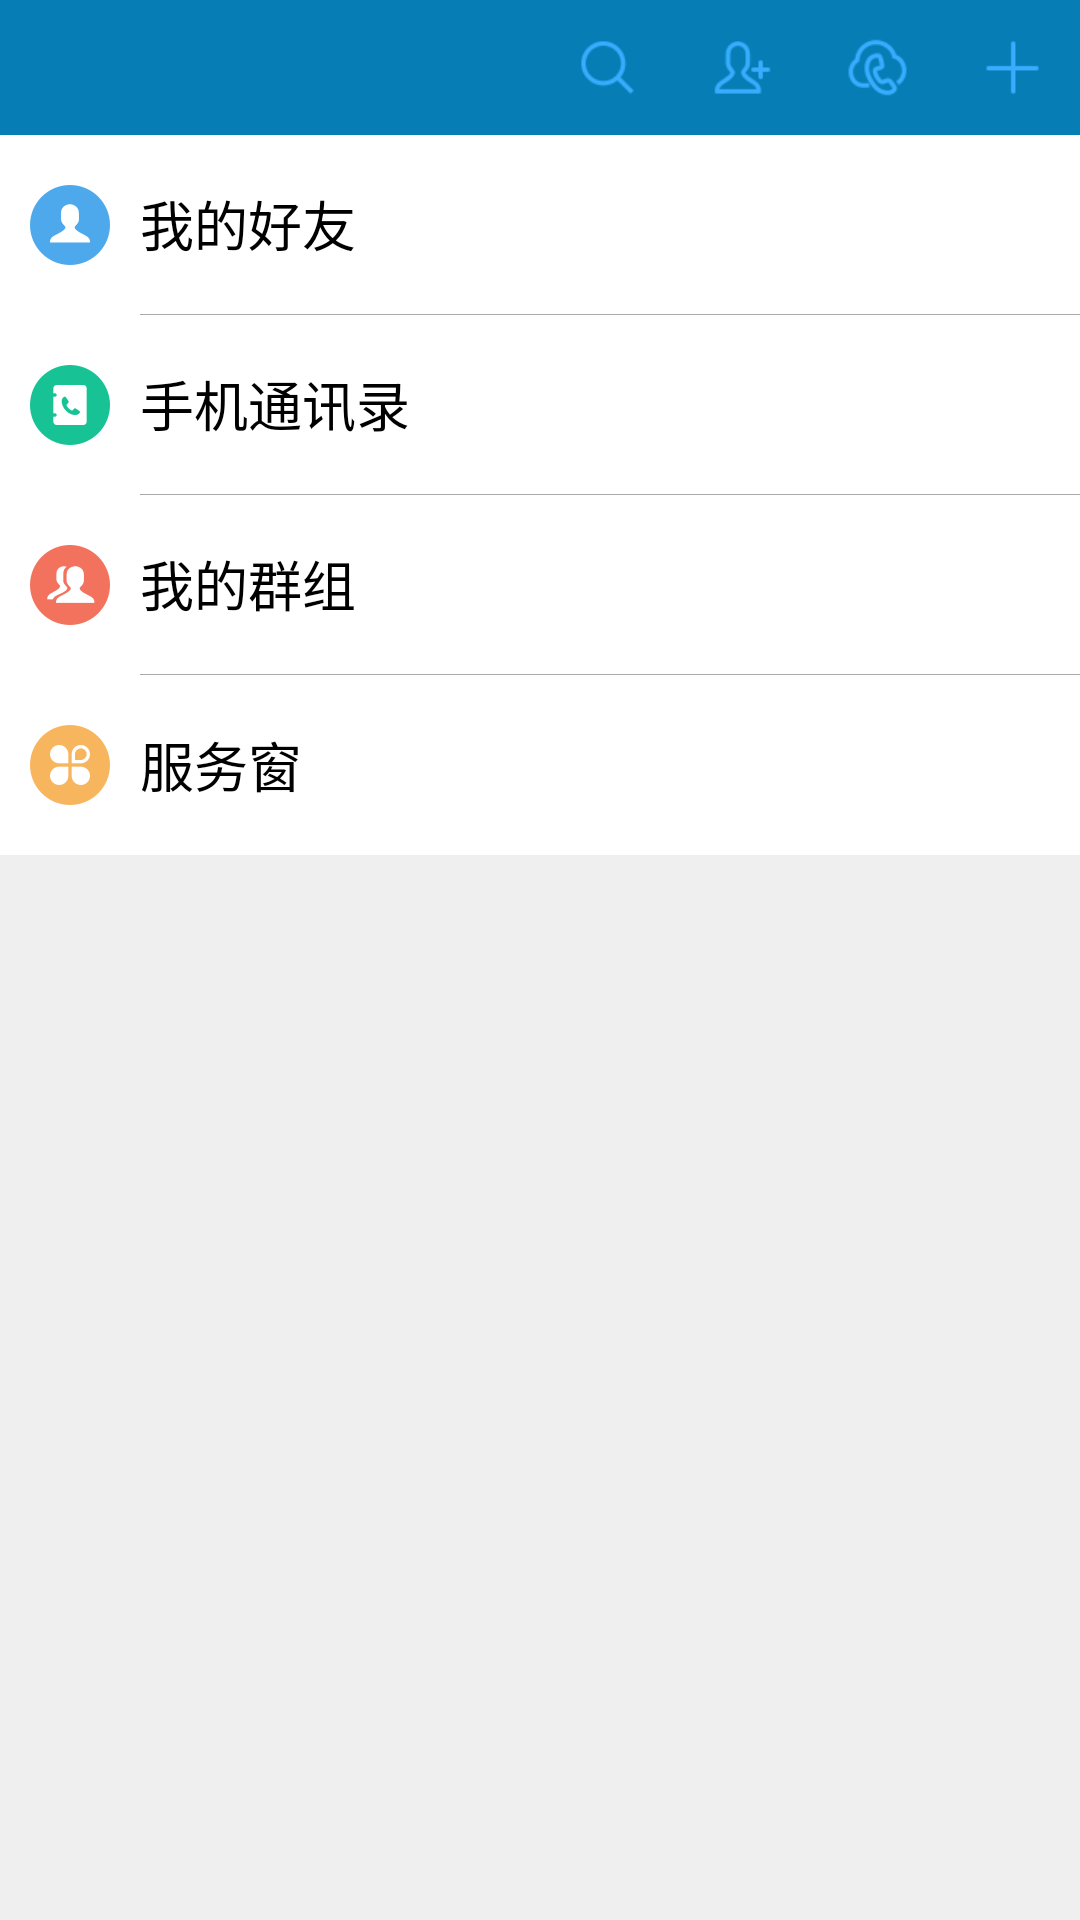

Named icons in this screenshot (1080px×1920px) and their centers, point (x, y):
actbar contact add: point (742, 67)
actbar more: point (1012, 67)
actbar phone: point (877, 67)
actbar search: point (607, 67)
contact channels: point (70, 765)
contact friends: point (70, 225)
contact group: point (70, 585)
contact local: point (70, 405)
